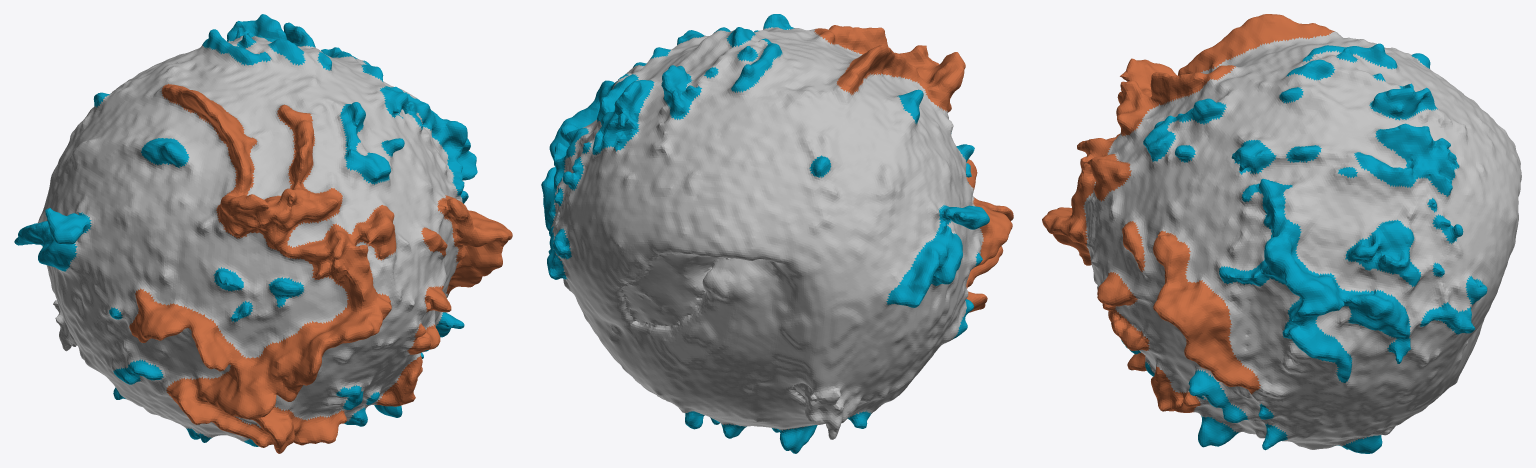
3 views of the same model, side by side, from view 1: azimuth 30°, elevation 25°; view 2: azimuth 150°, elevation 25°; view 3: azimuth 270°, elevation 25° (orthographic).
Bounding box in the file's own units: 162 × 140 × 156.
